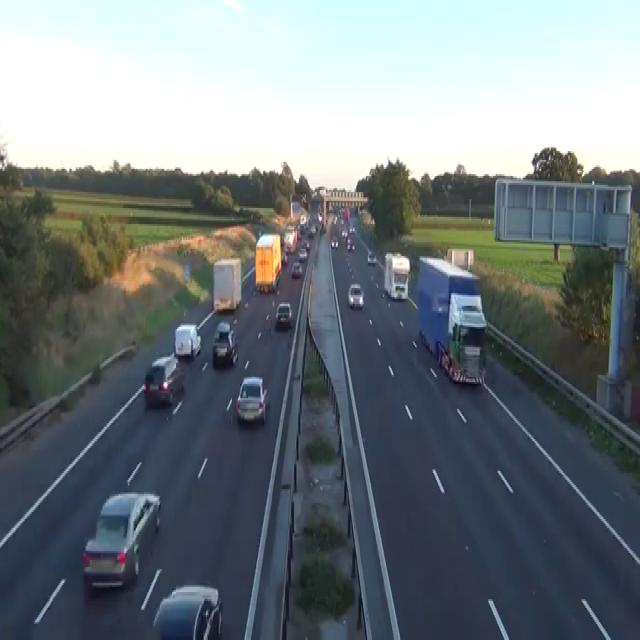Car: (82, 491, 161, 590), (152, 583, 222, 638), (143, 354, 185, 407), (235, 375, 268, 423), (212, 322, 238, 366), (174, 324, 201, 359), (151, 354, 177, 375), (275, 302, 292, 329), (347, 282, 364, 308), (291, 262, 302, 278), (298, 246, 307, 262), (367, 251, 376, 265), (346, 238, 355, 251), (330, 235, 338, 249), (281, 250, 288, 266), (308, 226, 315, 238), (341, 228, 347, 238), (328, 202, 334, 212), (295, 228, 301, 238), (349, 224, 355, 233), (304, 240, 310, 249), (317, 212, 322, 222), (257, 228, 262, 238), (280, 233, 284, 245)
Truck: (417, 254, 487, 384), (212, 256, 241, 311), (255, 233, 281, 291), (383, 250, 410, 300), (284, 228, 297, 252)
